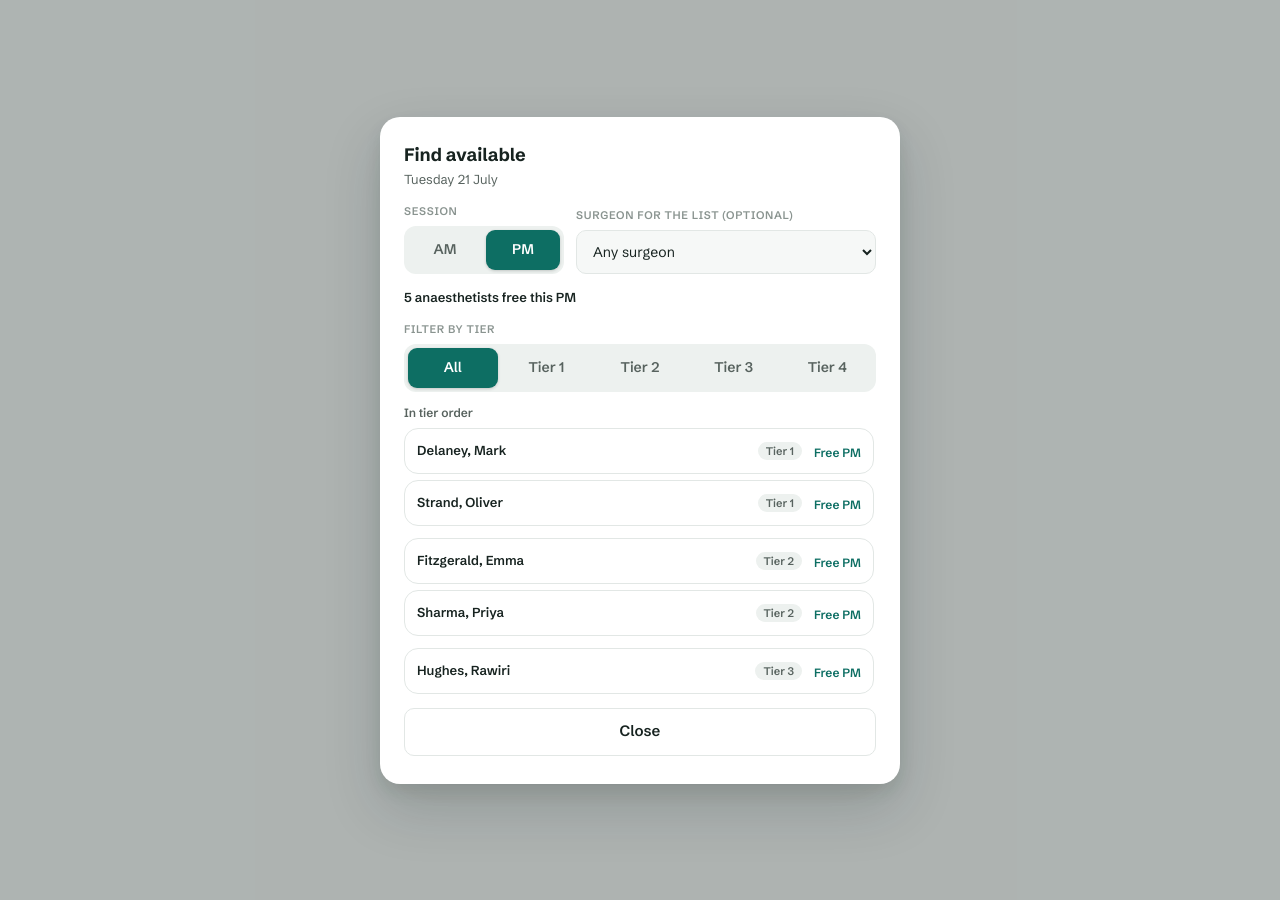
Test case: AvailabilityFinderSheet › filters by tier, and switches session
Click the button "Tier 1": click(546, 368) [502,348,591,388]
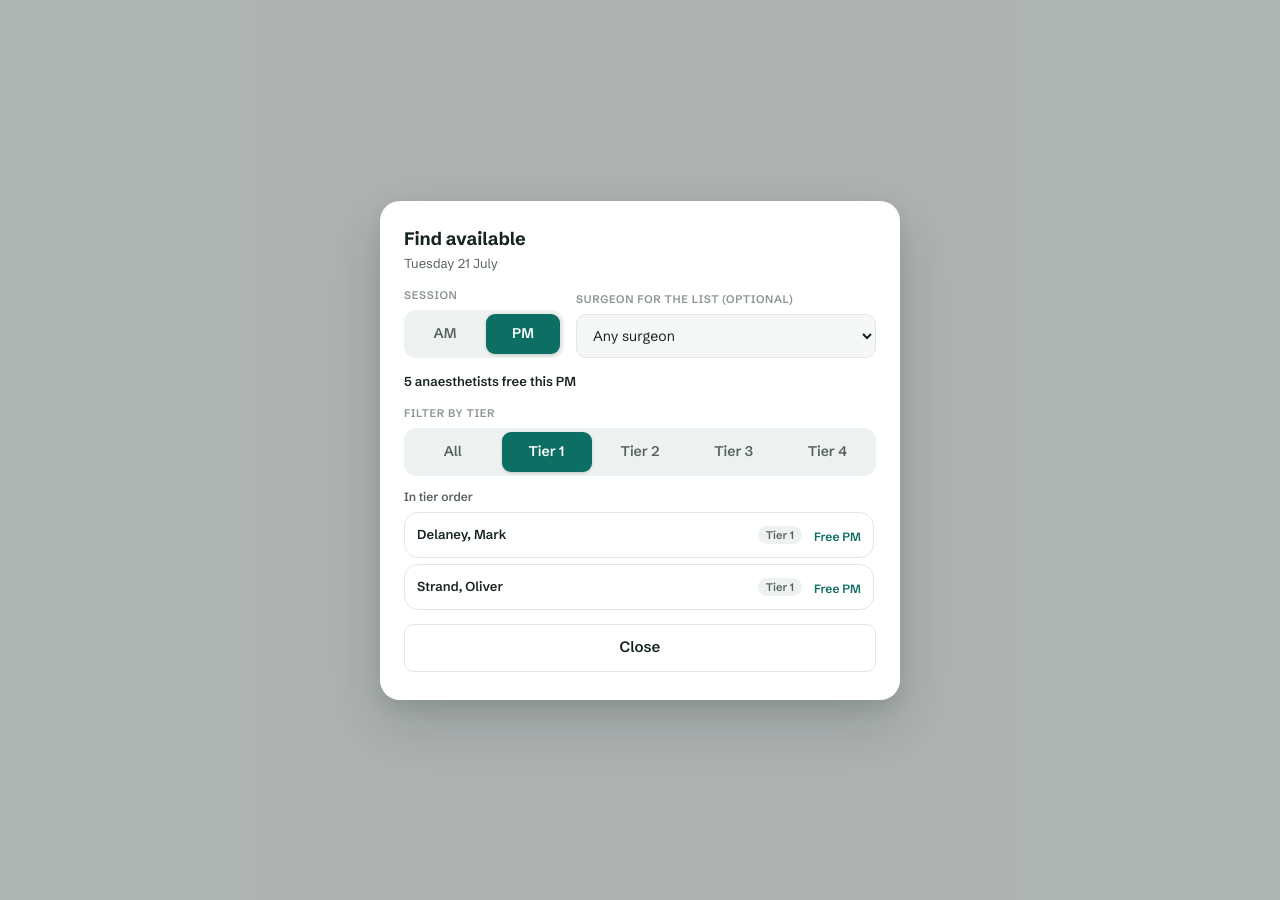
Click the button "All": click(453, 452) [408,432,498,472]
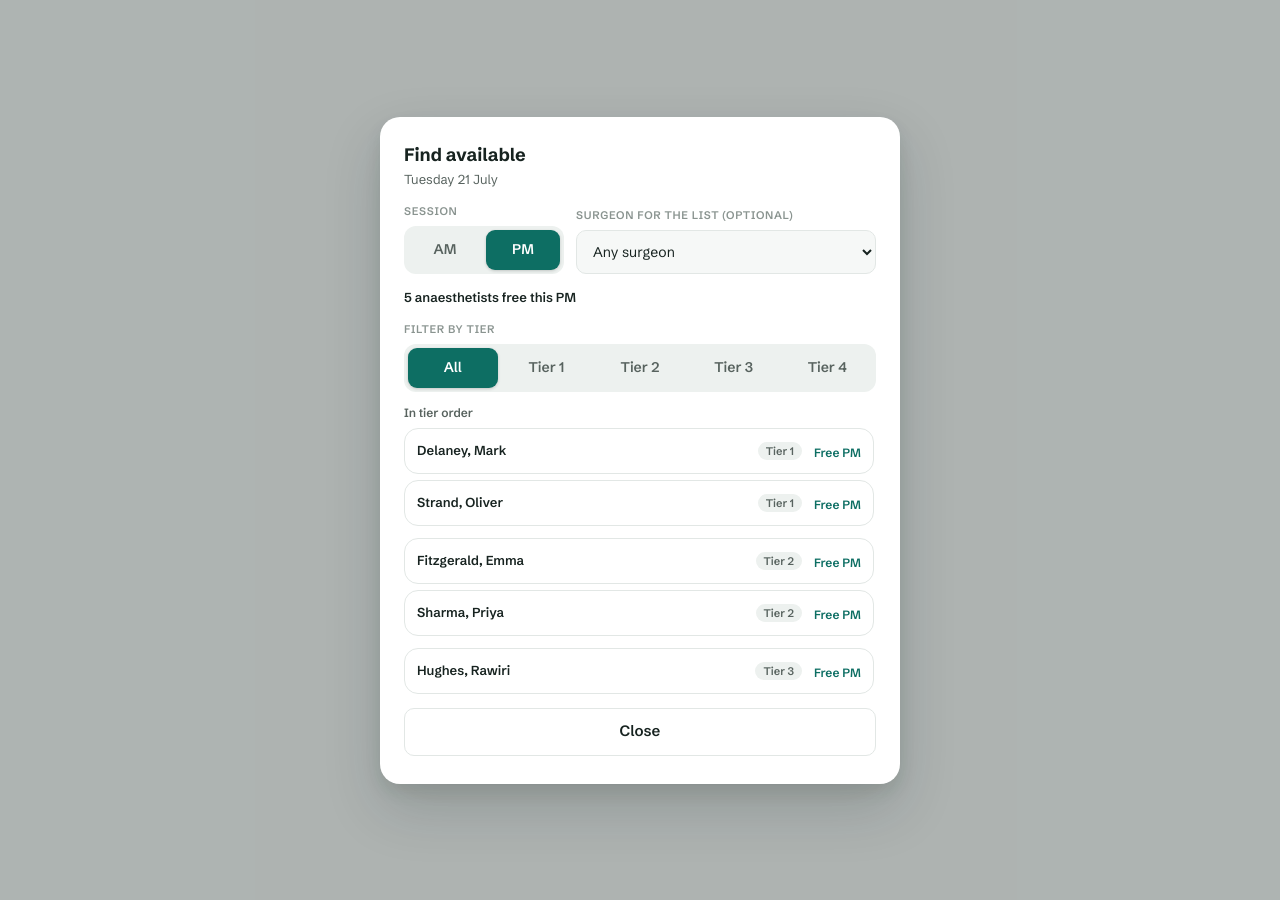
Click the button "AM": click(445, 250) [408,230,482,270]
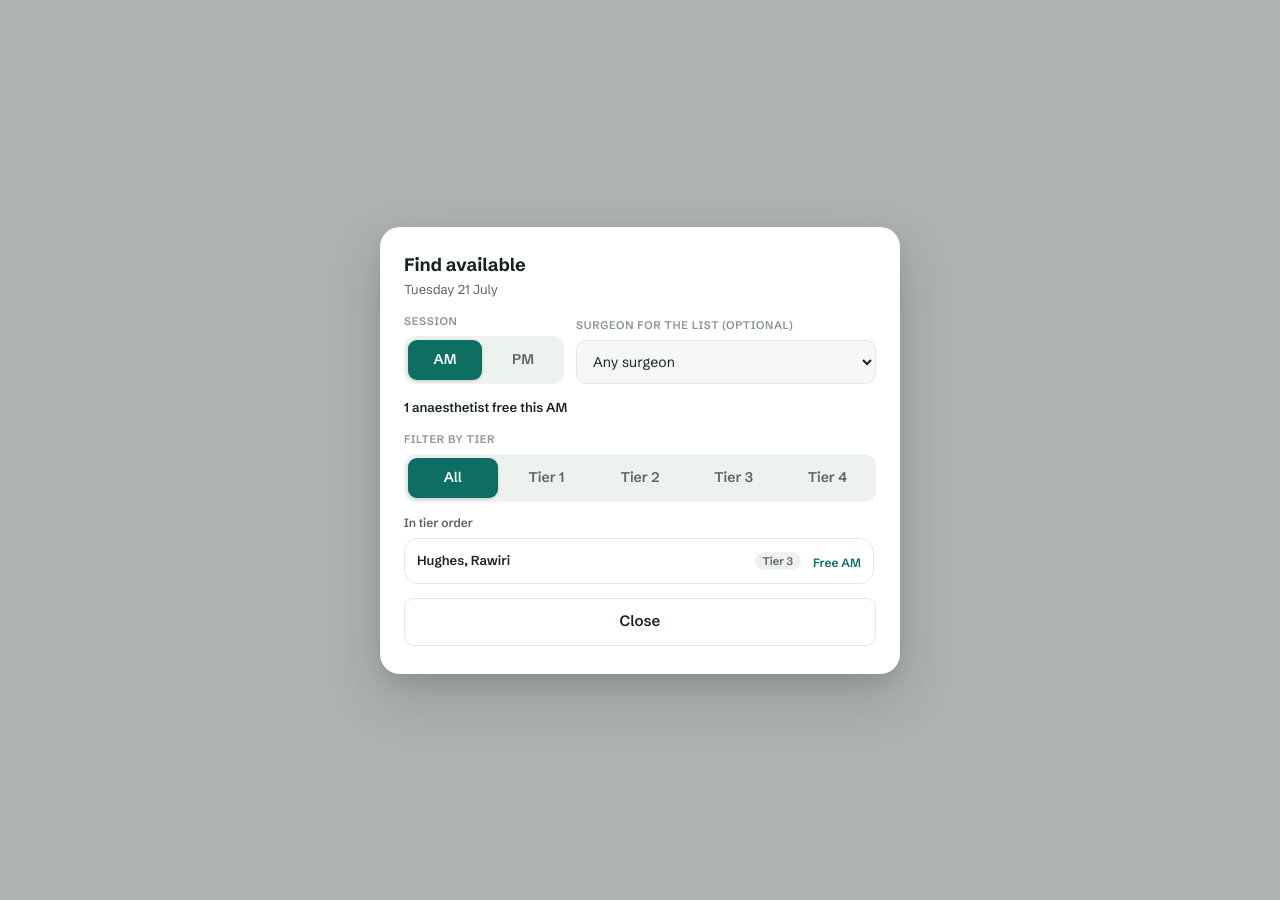
Now the text "1 anaesthetist free this AM" is shown, box [404,398,567,414]
